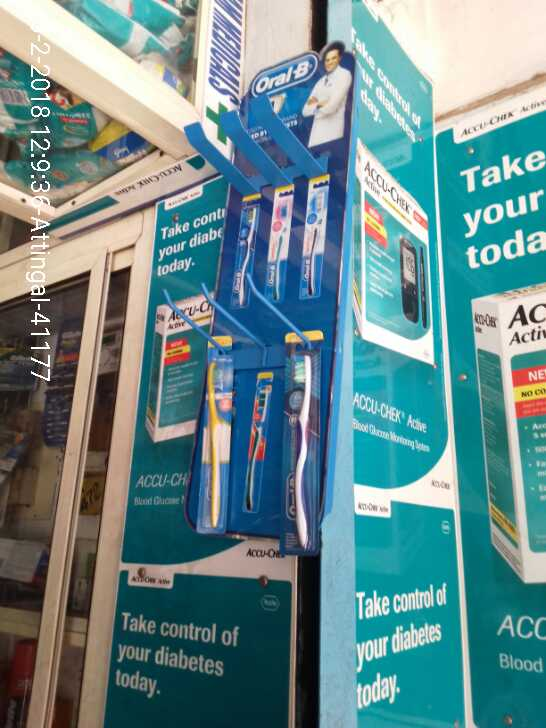oralb: (281, 330, 320, 552), (205, 334, 230, 531)
